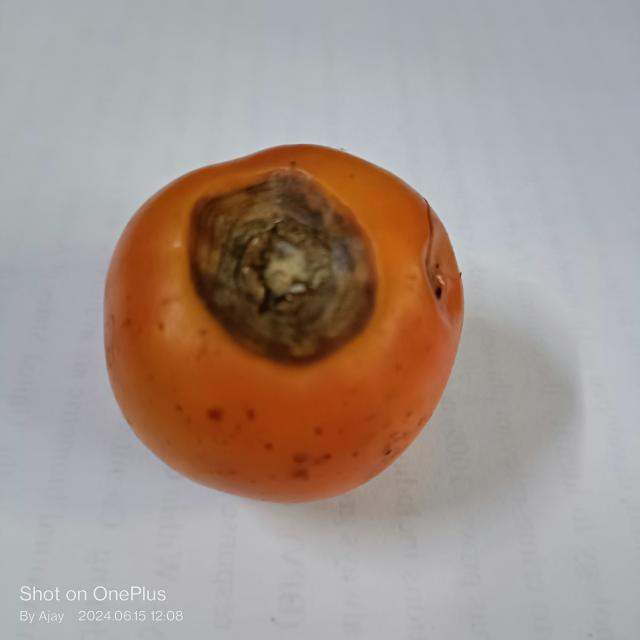Anthrocnose: (185, 168, 381, 364)
